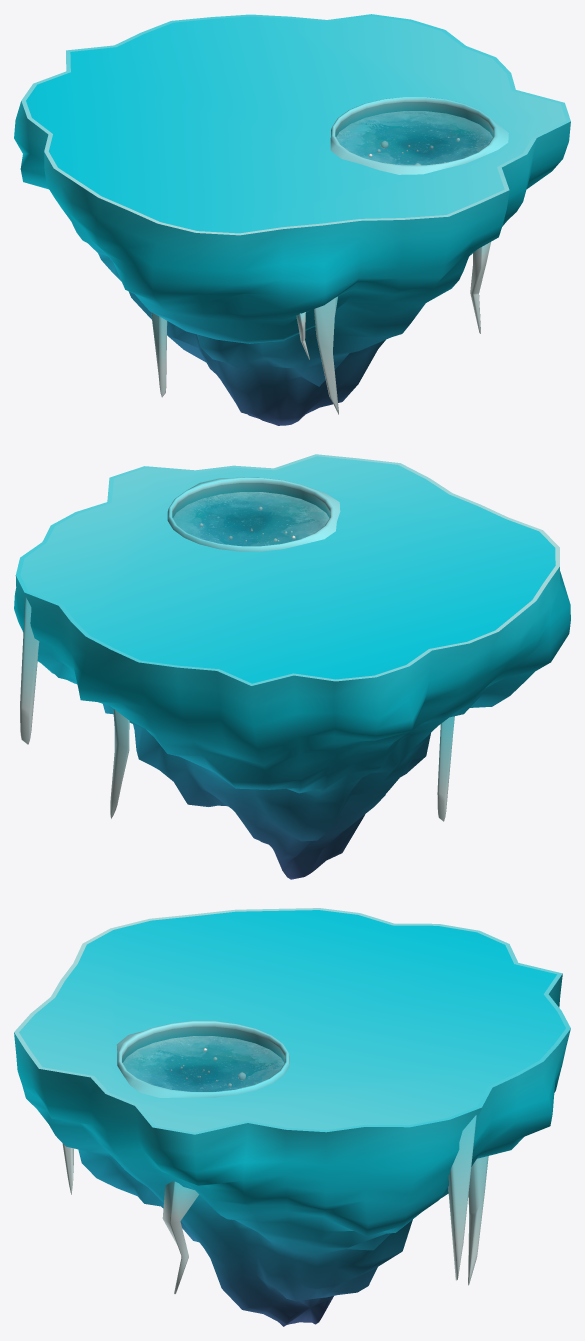
Rendered from Island_V2.fbx.
The picture shows the model from 3 angles, top to bottom: view 1: azimuth 30°, elevation 25°; view 2: azimuth 150°, elevation 25°; view 3: azimuth 270°, elevation 25°; orthographic projection. The views are drawn at different scales.
Visible parts, largest first — view 1: Island_V2; view 2: Island_V2; view 3: Island_V2.
Boxes of the visible parts, x1,y1,x2,y2 form: Island_V2: [14, 14, 570, 425]; Island_V2: [14, 454, 570, 879]; Island_V2: [14, 908, 570, 1326].
Bounding box in the file's own units: 2534 × 1633 × 2617.
